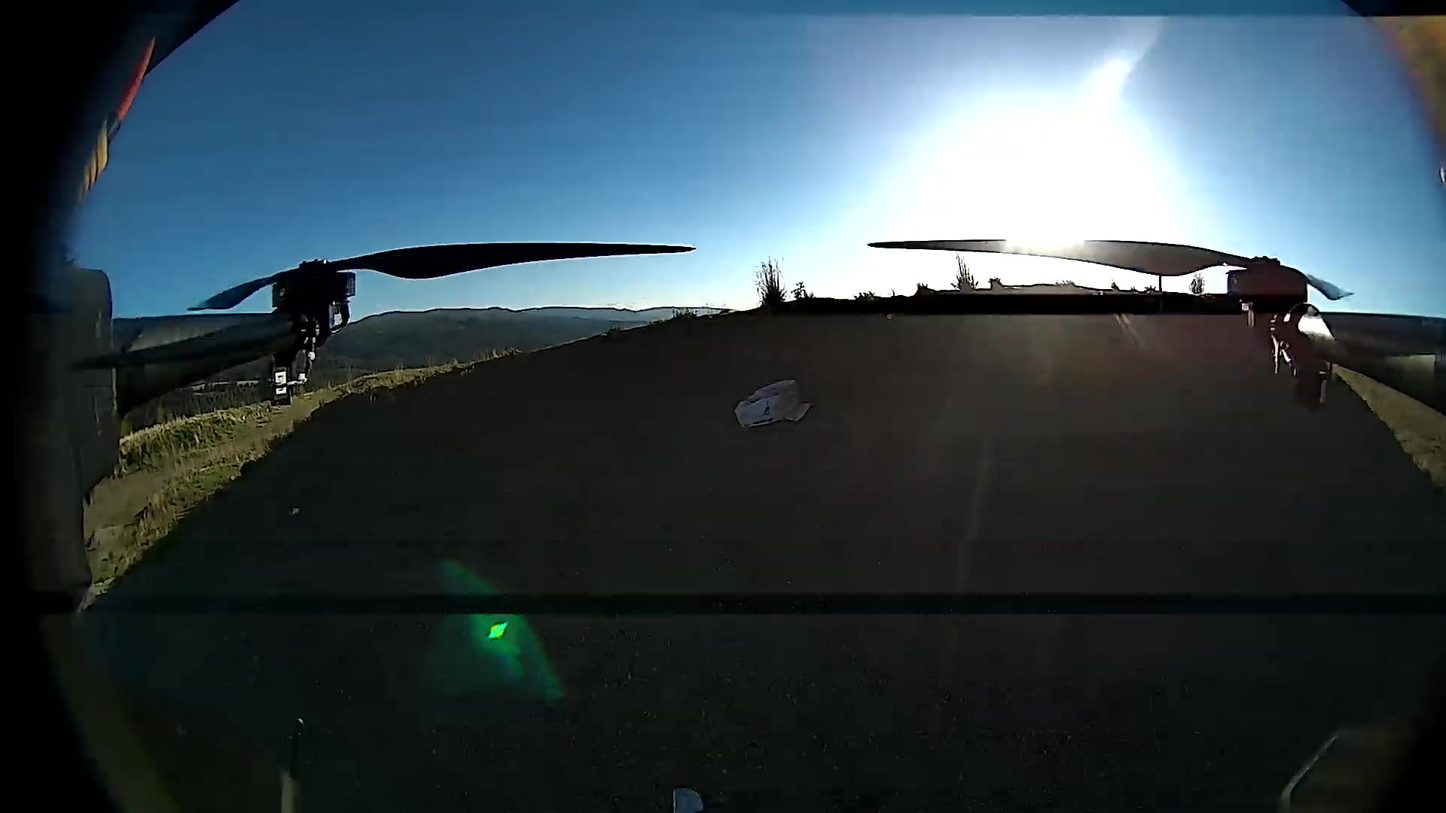Target: (732, 374, 813, 429)
